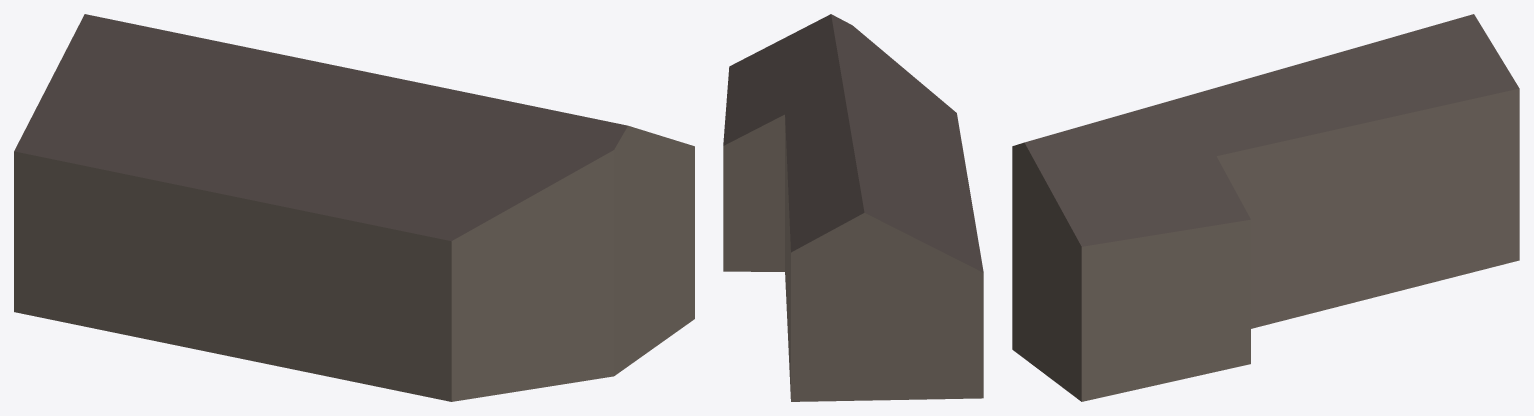
3 renders of one model, left to right at view 1: azimuth 30°, elevation 25°; view 2: azimuth 150°, elevation 25°; view 3: azimuth 270°, elevation 25°, orthographic. The views are drawn at different scales.
Parts seen in each view (by area): view 1: HP-w369238000; view 2: HP-w369238000; view 3: HP-w369238000.
Boxes of the visible parts, x1,y1,x2,y2 form: HP-w369238000: [14, 14, 694, 401]; HP-w369238000: [723, 14, 983, 401]; HP-w369238000: [1012, 14, 1519, 401].
Size of the model in its own units: 29.5 by 13.48 by 28.65.
